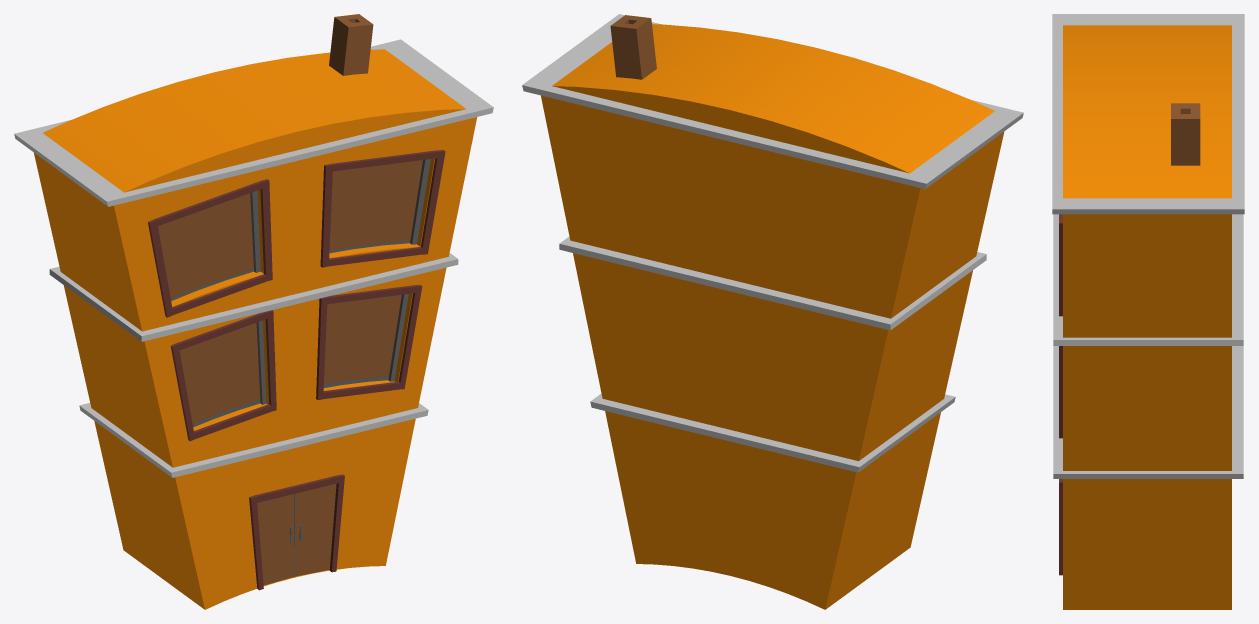
File: CartoonHouse2.fbx
3 renders of one model, left to right at view 1: azimuth 30°, elevation 25°; view 2: azimuth 150°, elevation 25°; view 3: azimuth 270°, elevation 25°, orthographic. The views are drawn at different scales.
Visible parts, largest first — view 1: body, part1, Box015, Box018, Box024, Box021, part2, part3, door_2, door_1, Box005, Box007 (+10 smaller); view 2: body, part1, part2, part3, air; view 3: body, part1, part2, part3, air, Box008, Box026, Box010.
Part boxes in pixels (left/top/right/bottom): body: left=34, top=49, right=477, bottom=609; part1: left=14, top=39, right=493, bottom=206; Box015: left=158, top=193, right=253, bottom=298; Box018: left=329, top=160, right=422, bottom=250; Box024: left=179, top=323, right=260, bottom=423; Box021: left=324, top=294, right=401, bottom=384; part2: left=49, top=253, right=458, bottom=341; part3: left=79, top=403, right=428, bottom=477; door_2: left=295, top=483, right=336, bottom=576; door_1: left=257, top=494, right=295, bottom=585; Box005: left=148, top=181, right=266, bottom=317; Box007: left=320, top=150, right=438, bottom=267; body: left=541, top=24, right=1004, bottom=609; part1: left=522, top=14, right=1023, bottom=188; part2: left=559, top=236, right=986, bottom=330; part3: left=590, top=393, right=955, bottom=472; air: left=610, top=15, right=656, bottom=79; body: left=1063, top=25, right=1231, bottom=609; part1: left=1052, top=14, right=1244, bottom=214; part2: left=1053, top=214, right=1243, bottom=345; part3: left=1053, top=346, right=1243, bottom=478; air: left=1171, top=103, right=1200, bottom=165; Box008: left=1059, top=218, right=1062, bottom=316; Box026: left=1059, top=479, right=1062, bottom=575; Box010: left=1059, top=346, right=1062, bottom=438.
Bounding box in the file's own units: 78.87 × 96.77 × 32.81.
